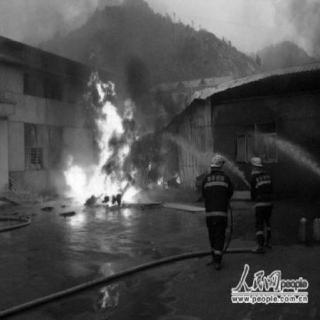other: (207, 148, 227, 174)
